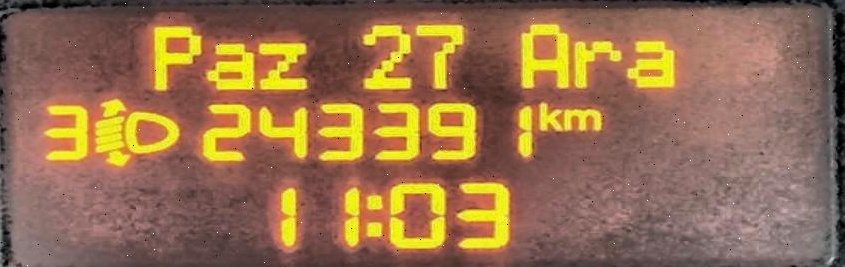0: (388, 179, 448, 248)
1: (271, 180, 304, 252), (339, 182, 362, 253), (513, 101, 535, 159)
2: (361, 21, 413, 92), (199, 97, 252, 166)
3: (457, 178, 510, 249), (370, 97, 424, 162), (314, 99, 364, 164), (43, 99, 91, 164)
4: (255, 101, 308, 162)
7: (413, 19, 465, 90)
9: (426, 99, 481, 160)
X: (515, 19, 569, 88), (145, 24, 199, 89), (627, 34, 680, 92), (256, 37, 313, 89), (567, 36, 620, 89), (205, 38, 257, 89), (362, 188, 384, 243), (562, 106, 603, 133), (532, 102, 567, 133)
